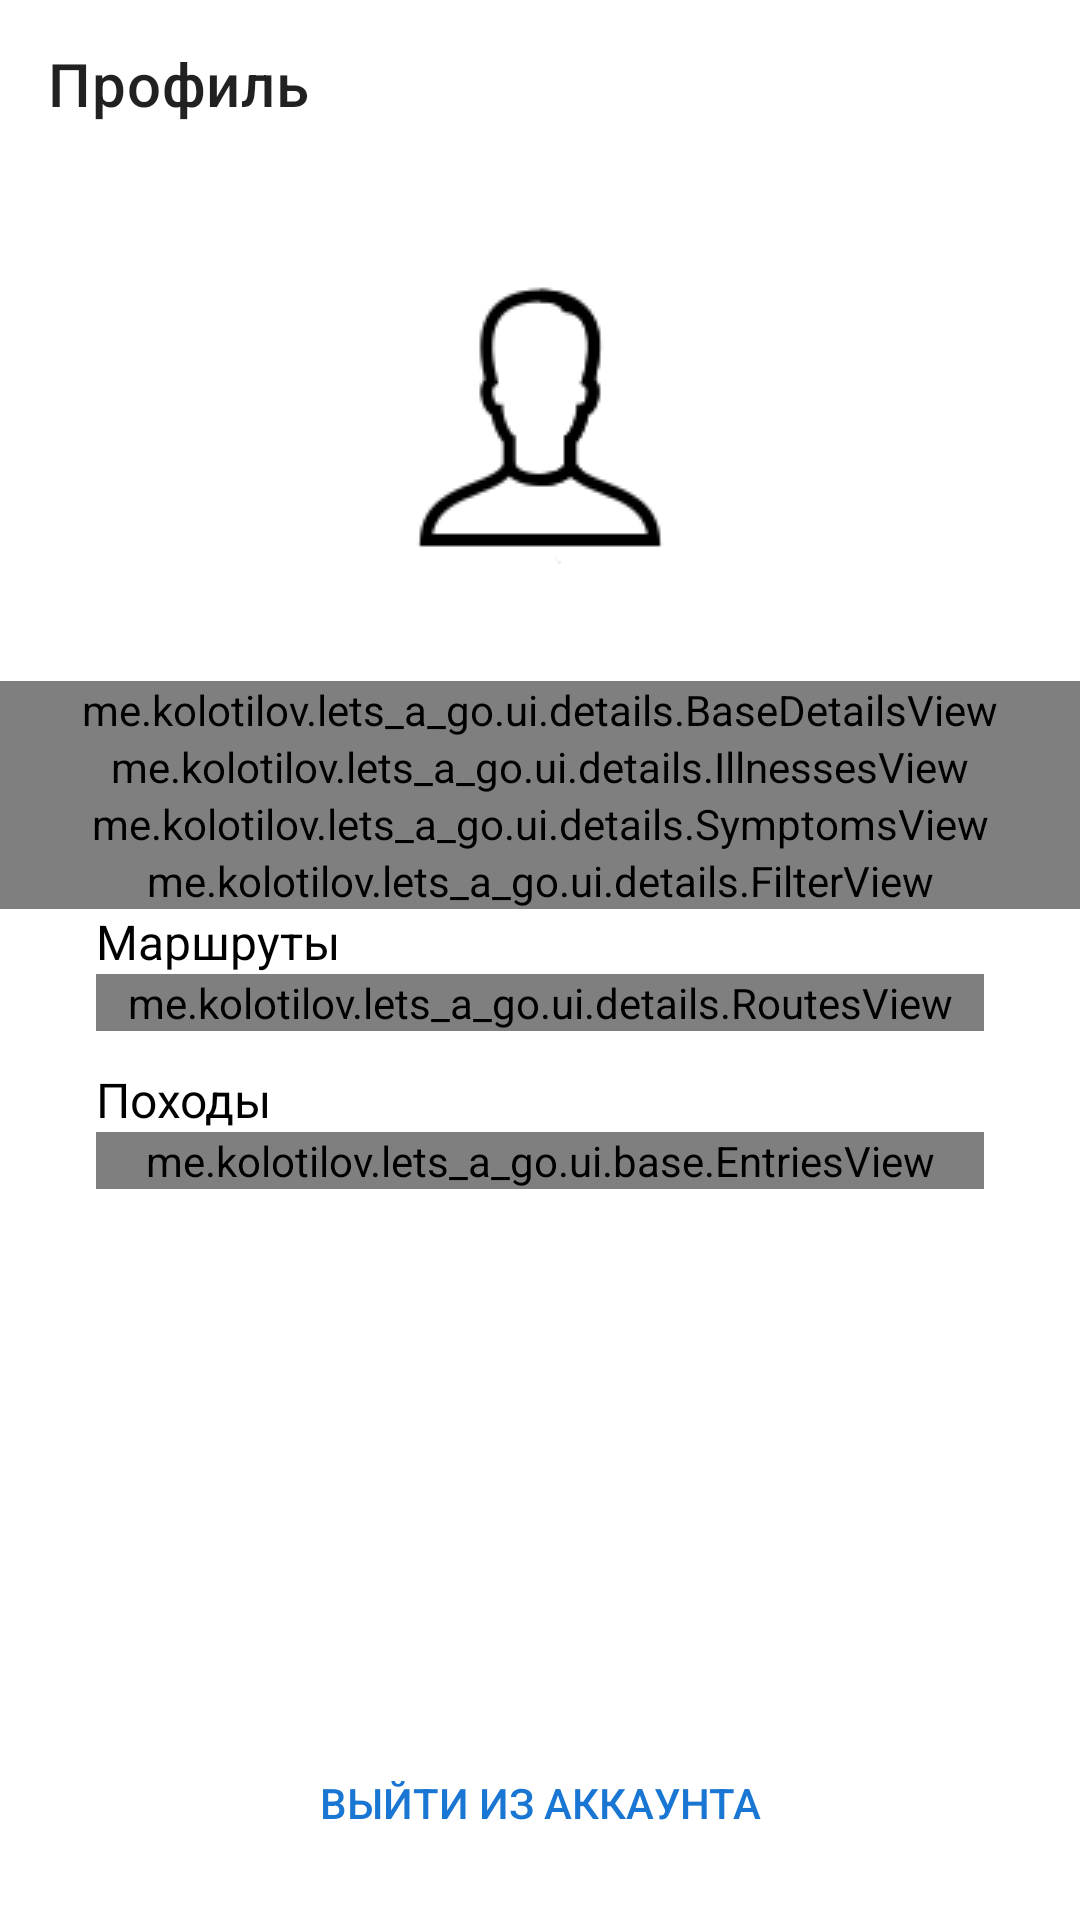

Where icons sit on this 1080*1920 app screen, as (x1, y1, x2, y2):
user details: (419, 287, 661, 547)
